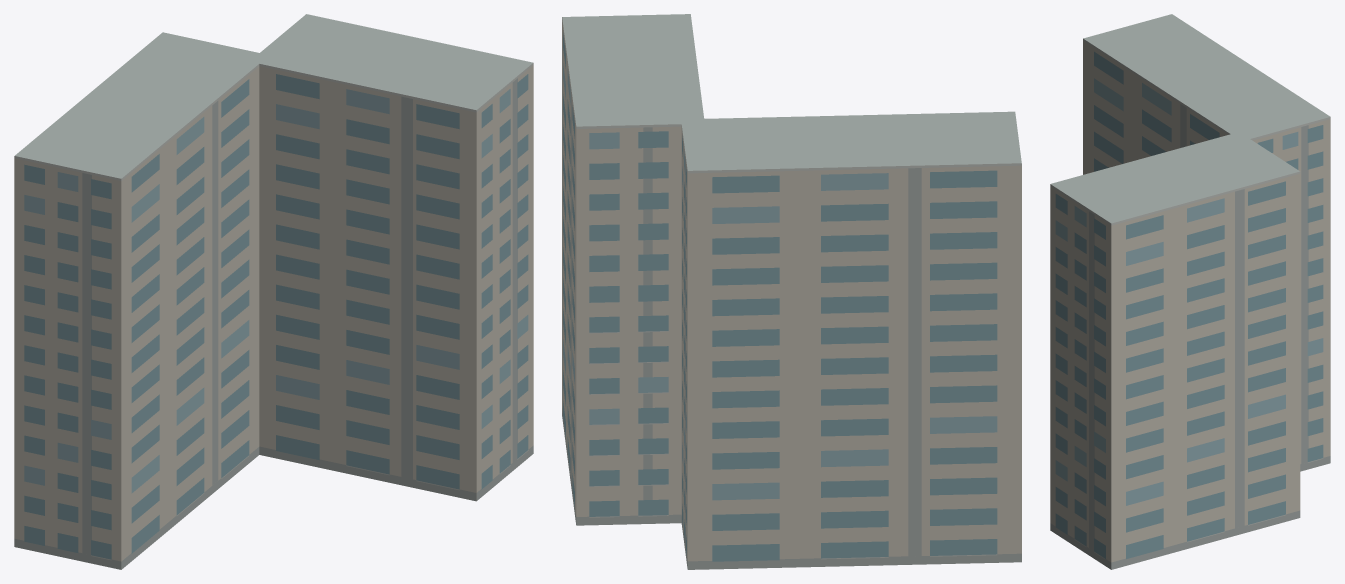
File: residential-934e09dd-d645-41f1-a1be-8b9bb8ed0b80.glb
3 renders of one model, left to right at view 1: azimuth 30°, elevation 25°; view 2: azimuth 150°, elevation 25°; view 3: azimuth 270°, elevation 25°, orthographic. The views are drawn at different scales.
Parts seen in each view (by area): view 1: residential-934e09dd-d645-41f1-a1be-8b9bb8ed0b80.tmp; view 2: residential-934e09dd-d645-41f1-a1be-8b9bb8ed0b80.tmp; view 3: residential-934e09dd-d645-41f1-a1be-8b9bb8ed0b80.tmp.
Part boxes in pixels (x1,y1,x2,y2): residential-934e09dd-d645-41f1-a1be-8b9bb8ed0b80.tmp: (14,14,533,569); residential-934e09dd-d645-41f1-a1be-8b9bb8ed0b80.tmp: (562,14,1021,569); residential-934e09dd-d645-41f1-a1be-8b9bb8ed0b80.tmp: (1050,14,1330,569).
Bounding box in the file's own units: 51.44 × 39.65 × 29.11.
